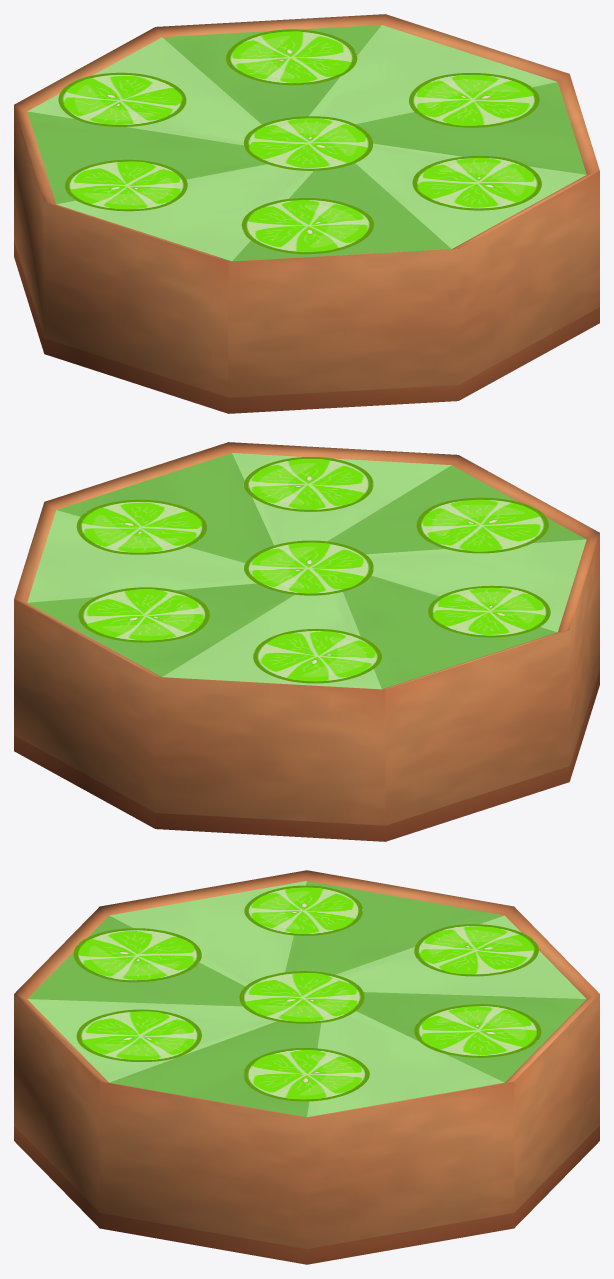
Rendered from Cheesecake_C_5.FBX.
3 renders of one model, top to bottom at view 1: azimuth 30°, elevation 25°; view 2: azimuth 150°, elevation 25°; view 3: azimuth 270°, elevation 25°, orthographic. The views are drawn at different scales.
Visible parts, largest first — view 1: Cheesecake_B; view 2: Cheesecake_B; view 3: Cheesecake_B.
Part boxes in pixels (x1=…): Cheesecake_B: x1=14, y1=14, x2=599, y2=413; Cheesecake_B: x1=14, y1=442, x2=599, y2=841; Cheesecake_B: x1=14, y1=870, x2=599, y2=1264.
Size of the model in its own units: 85.22 by 23.58 by 85.22.
